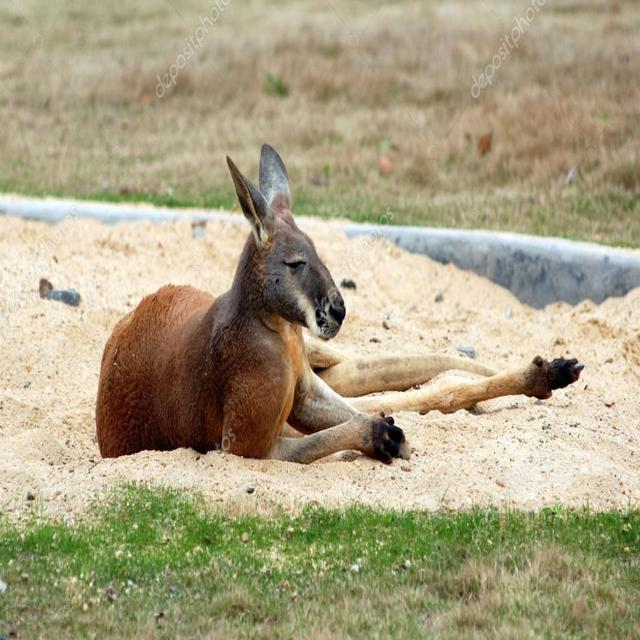kangaroo: (90, 151, 394, 465)
